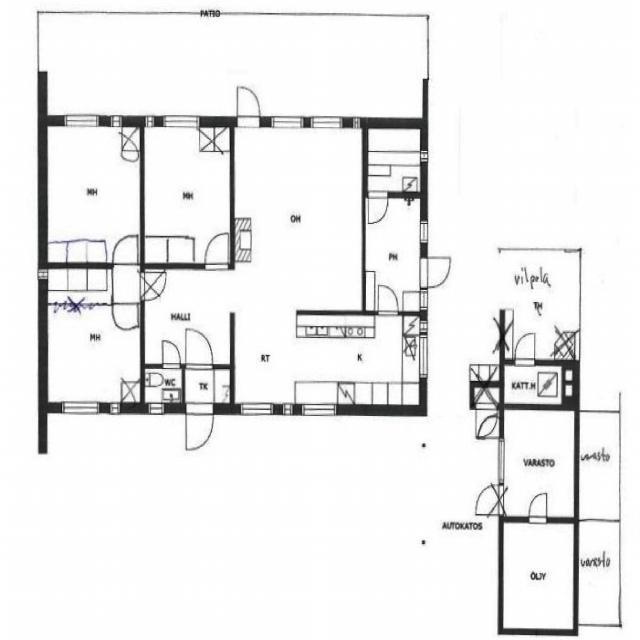door: (186, 406, 213, 453), (186, 330, 212, 371), (420, 258, 451, 288), (114, 232, 138, 270), (237, 86, 259, 126), (205, 233, 228, 270), (115, 300, 138, 337), (378, 284, 398, 316), (514, 334, 534, 366), (368, 192, 388, 223), (617, 483, 640, 509), (617, 531, 640, 557), (480, 413, 503, 438), (162, 342, 180, 371), (529, 495, 547, 523)
